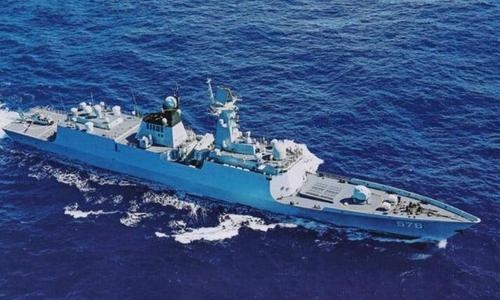warship: (5, 86, 484, 244)
